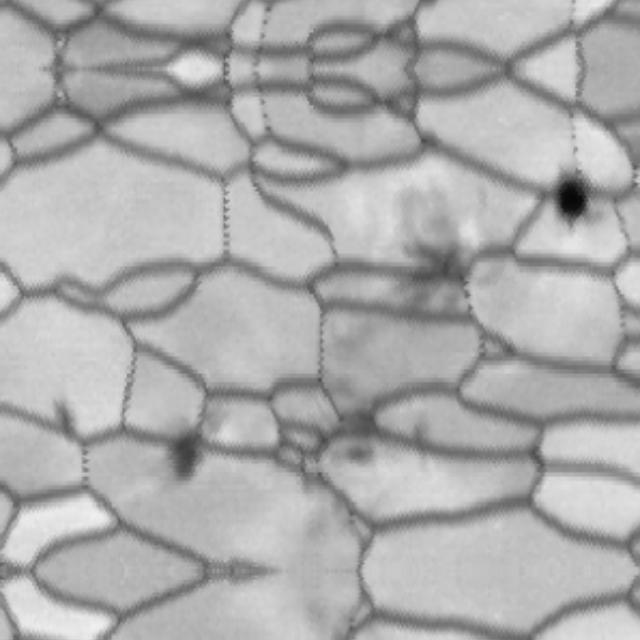good_void: (384, 179, 492, 314), (307, 395, 392, 479), (540, 154, 603, 237), (151, 411, 213, 494), (37, 390, 90, 448), (550, 172, 592, 233)
